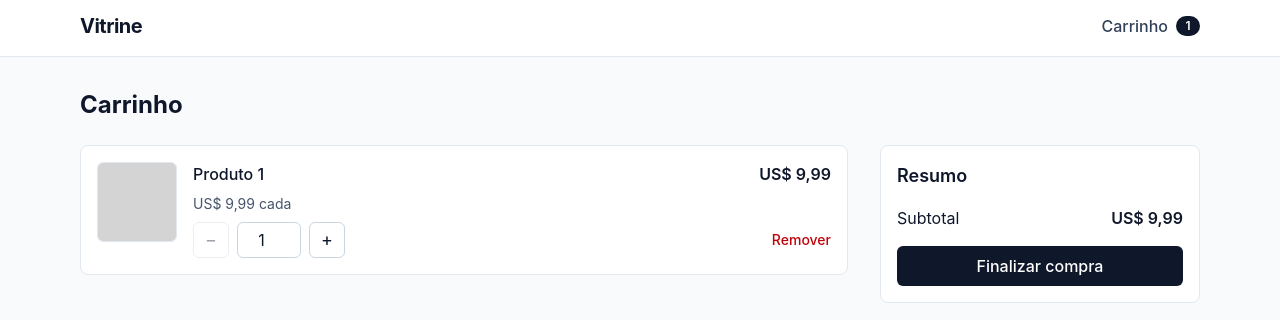
Test: CartPage › quantidade digitada acima do estoque fica no estoque
This screenshot has width=1280, height=320.
Replace the text in the number field named "Quantidade de Produto 1" with "9" at (269, 240), box x1=237 y1=222 x2=301 y2=258
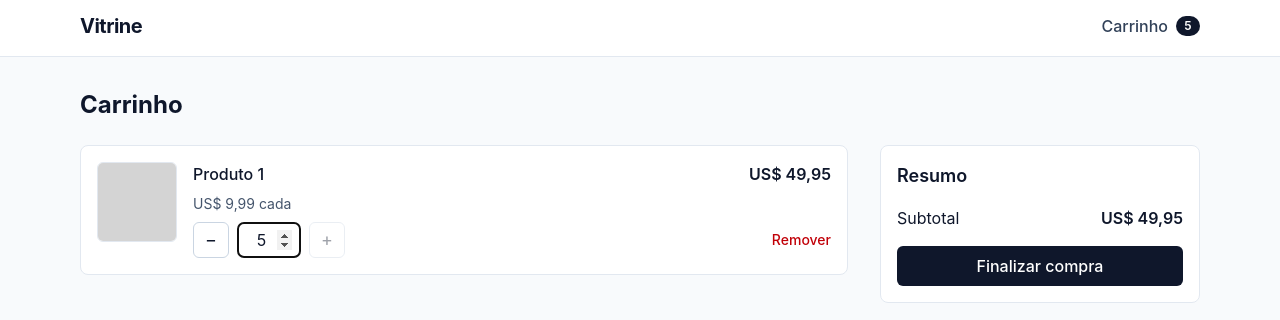
Expected: the number field named "Quantidade de Produto 1" holds "5", x1=237 y1=222 x2=301 y2=258
